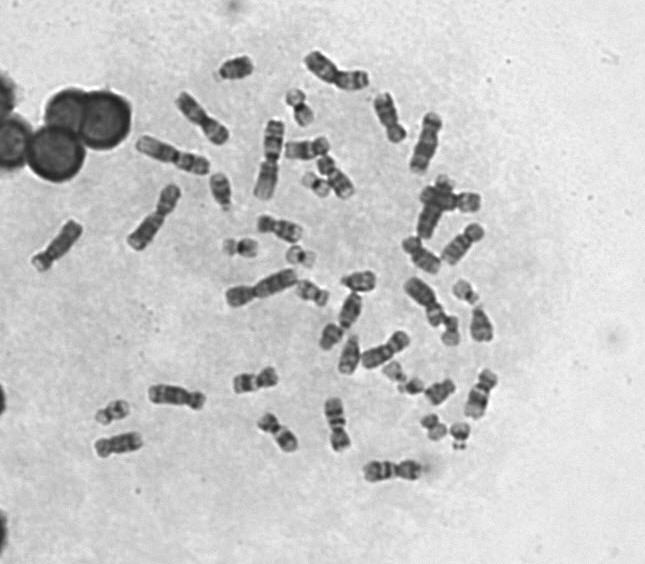chromosomes: (122, 182, 184, 261), (171, 86, 233, 154), (215, 266, 298, 314), (296, 48, 375, 94), (26, 215, 87, 274), (132, 136, 213, 178), (414, 170, 458, 242), (253, 119, 286, 204), (439, 216, 491, 269), (408, 109, 447, 176), (355, 329, 415, 372), (148, 377, 210, 416), (461, 366, 502, 423), (357, 455, 428, 487), (370, 90, 411, 145), (401, 280, 447, 329), (318, 154, 360, 205), (418, 182, 487, 213), (253, 412, 303, 454), (397, 232, 443, 276), (321, 395, 354, 455), (89, 429, 145, 462), (228, 365, 283, 398), (253, 214, 306, 244), (207, 169, 238, 220), (210, 52, 257, 84), (469, 301, 501, 348), (282, 133, 337, 160), (416, 377, 460, 409), (84, 397, 134, 425), (333, 333, 362, 381), (283, 89, 318, 128), (449, 273, 486, 309), (291, 278, 333, 309), (338, 287, 366, 333), (411, 413, 450, 443), (218, 235, 261, 260), (283, 244, 321, 272), (438, 311, 465, 350), (297, 171, 332, 201), (313, 321, 345, 352), (338, 269, 378, 293), (447, 419, 474, 454), (380, 359, 409, 388), (393, 378, 426, 399)
